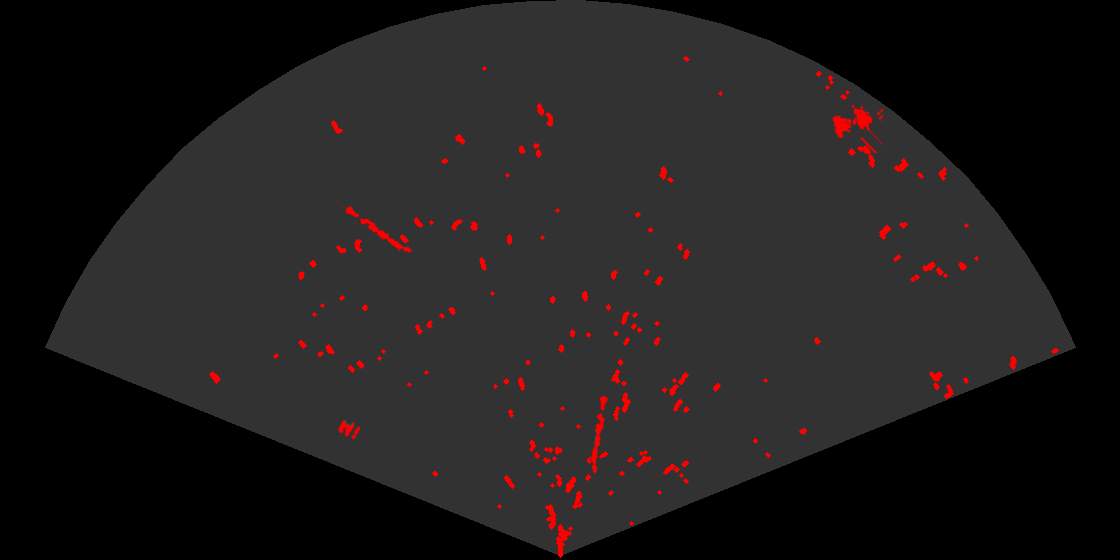ball: (336, 418, 362, 441)
cage: (831, 103, 883, 153)
chain: (335, 200, 413, 254), (589, 392, 610, 475)
